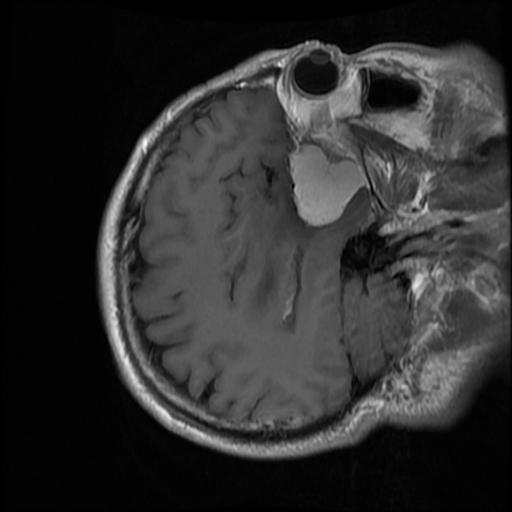meningioma: (287, 143, 364, 226)
